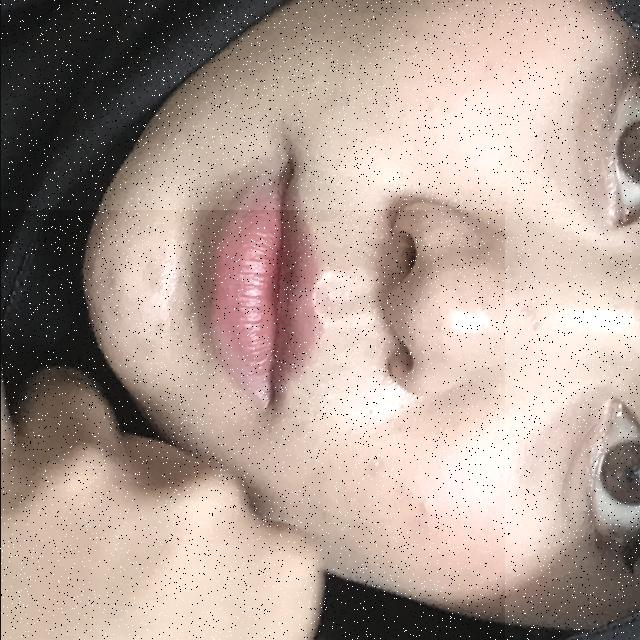telpon: (0, 210, 504, 640)
